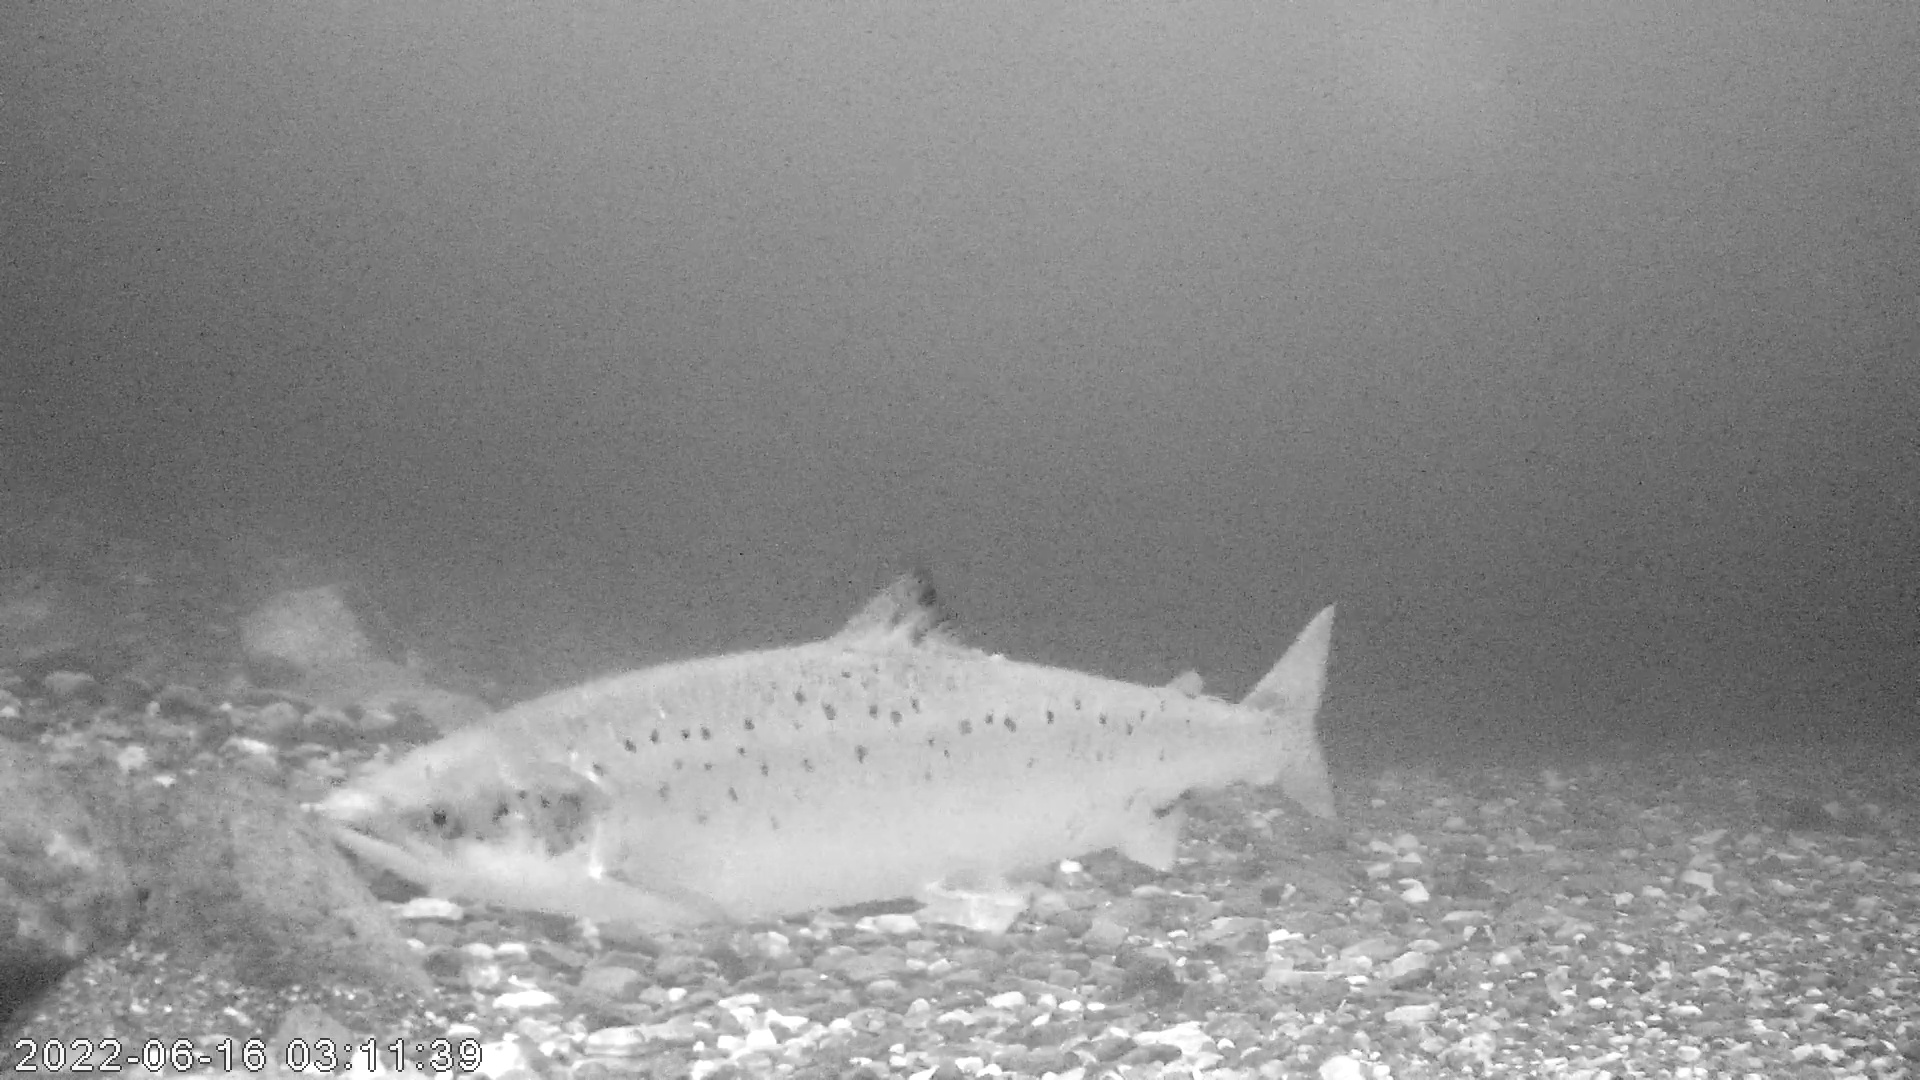salmon: (315, 560, 1344, 934)
